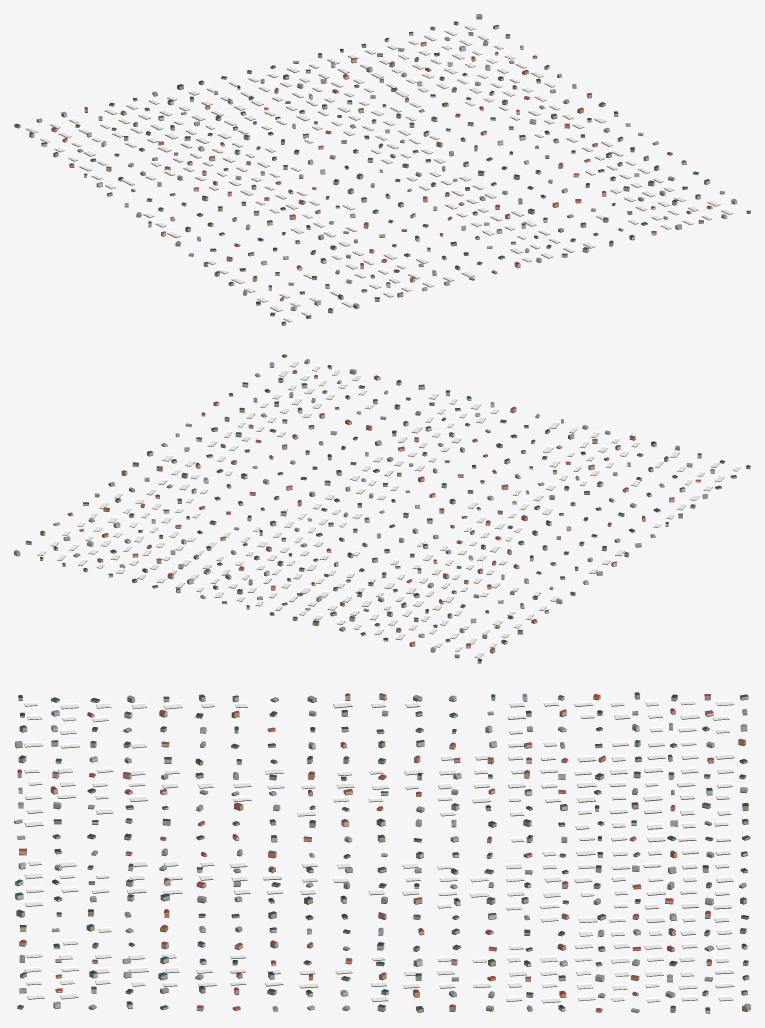
File: buildings_T_E04_N01.glb
3 renders of one model, top to bottom at view 1: azimuth 30°, elevation 25°; view 2: azimuth 150°, elevation 25°; view 3: azimuth 270°, elevation 25°, orthographic. The views are drawn at different scales.
Parts seen in each view (by area): view 1: T_E04_N01_roofs_agri_greenhouse_arch, T_E04_N01_slope_seating_foundations, T_E04_N01_walls_wall_dalat_cream_stucco, T_E04_N01_walls_wall_pastel_sand_gray, T_E04_N01_walls_wall_modern_warm_white, T_E04_N01_walls_wall_french_ochre_villa, T_E04_N01_roofs_roof_zinc_silver_gable, T_E04_N01_roofs_roof_slate_French_villa_hip, T_E04_N01_roofs_roof_pine_green_hip, T_E04_N01_roofs_roof_terracotta_gable; view 2: T_E04_N01_roofs_agri_greenhouse_arch, T_E04_N01_slope_seating_foundations, T_E04_N01_walls_wall_dalat_cream_stucco, T_E04_N01_walls_wall_pastel_sand_gray, T_E04_N01_walls_wall_modern_warm_white, T_E04_N01_walls_wall_french_ochre_villa, T_E04_N01_roofs_roof_zinc_silver_gable, T_E04_N01_roofs_roof_slate_French_villa_hip, T_E04_N01_roofs_roof_pine_green_hip, T_E04_N01_roofs_roof_terracotta_gable; view 3: T_E04_N01_roofs_agri_greenhouse_arch, T_E04_N01_slope_seating_foundations, T_E04_N01_walls_wall_dalat_cream_stucco, T_E04_N01_walls_wall_pastel_sand_gray, T_E04_N01_walls_wall_modern_warm_white, T_E04_N01_walls_wall_french_ochre_villa, T_E04_N01_roofs_roof_zinc_silver_gable, T_E04_N01_roofs_roof_slate_French_villa_hip, T_E04_N01_roofs_roof_pine_green_hip, T_E04_N01_roofs_roof_terracotta_gable.
Part boxes in pixels (left/top/right/bottom): T_E04_N01_roofs_agri_greenhouse_arch: left=25, top=24, right=733, bottom=321; T_E04_N01_slope_seating_foundations: left=14, top=18, right=750, bottom=325; T_E04_N01_walls_wall_dalat_cream_stucco: left=14, top=33, right=727, bottom=304; T_E04_N01_walls_wall_pastel_sand_gray: left=29, top=22, right=724, bottom=325; T_E04_N01_walls_wall_modern_warm_white: left=41, top=26, right=737, bottom=310; T_E04_N01_walls_wall_french_ochre_villa: left=53, top=16, right=750, bottom=318; T_E04_N01_roofs_roof_zinc_silver_gable: left=37, top=14, right=736, bottom=308; T_E04_N01_roofs_roof_slate_French_villa_hip: left=14, top=31, right=709, bottom=323; T_E04_N01_roofs_roof_pine_green_hip: left=53, top=21, right=750, bottom=314; T_E04_N01_roofs_roof_terracotta_gable: left=29, top=41, right=712, bottom=299; T_E04_N01_roofs_agri_greenhouse_arch: left=37, top=360, right=740, bottom=657; T_E04_N01_slope_seating_foundations: left=14, top=356, right=750, bottom=663; T_E04_N01_walls_wall_dalat_cream_stucco: left=53, top=360, right=721, bottom=663; T_E04_N01_walls_wall_pastel_sand_gray: left=40, top=366, right=750, bottom=657; T_E04_N01_walls_wall_modern_warm_white: left=25, top=363, right=714, bottom=647; T_E04_N01_walls_wall_french_ochre_villa: left=14, top=355, right=724, bottom=646; T_E04_N01_roofs_roof_zinc_silver_gable: left=14, top=359, right=714, bottom=655; T_E04_N01_roofs_roof_slate_French_villa_hip: left=83, top=380, right=750, bottom=661; T_E04_N01_roofs_roof_pine_green_hip: left=26, top=354, right=736, bottom=640; T_E04_N01_roofs_roof_terracotta_gable: left=68, top=370, right=700, bottom=649; T_E04_N01_roofs_agri_greenhouse_arch: left=23, top=699, right=734, bottom=1002; T_E04_N01_slope_seating_foundations: left=14, top=697, right=750, bottom=1013; T_E04_N01_walls_wall_dalat_cream_stucco: left=14, top=695, right=749, bottom=1011; T_E04_N01_walls_wall_pastel_sand_gray: left=16, top=695, right=749, bottom=1011; T_E04_N01_walls_wall_modern_warm_white: left=15, top=694, right=750, bottom=1013; T_E04_N01_walls_wall_french_ochre_villa: left=15, top=693, right=750, bottom=1012; T_E04_N01_roofs_roof_zinc_silver_gable: left=14, top=693, right=750, bottom=1011; T_E04_N01_roofs_roof_slate_French_villa_hip: left=18, top=694, right=748, bottom=1008; T_E04_N01_roofs_roof_pine_green_hip: left=15, top=692, right=750, bottom=1010; T_E04_N01_roofs_roof_terracotta_gable: left=17, top=693, right=744, bottom=1010.
Size of the model in its own units: 1748 by 32.06 by 1752.
